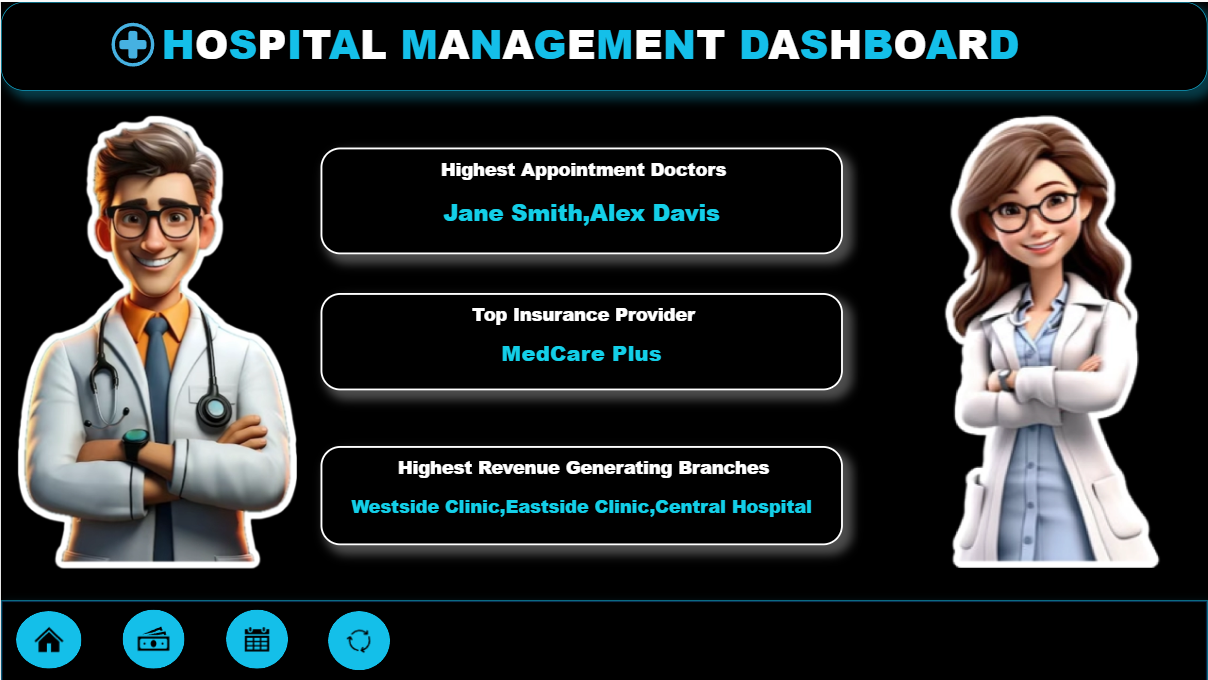

This screenshot's page, from the dashboard's own definition file:
{"tool":"powerbi","page":{"name":"Overview-Dashboard","canvas":[1280,720],"ordinal":0},"visuals":[{"type":"textbox","box":[0,0,1279.1,93.8],"z":0},{"type":"actionButton","box":[16.2,645.9,69.6,61.1],"z":0,"group":"g1"},{"type":"image","box":[16.2,0,299.7,721],"z":1000},{"type":"actionButton","box":[129.1,644.1,65.8,62.9],"z":1000,"group":"g1"},{"type":"shape","box":[0,633.9,1280,87.1],"z":2000},{"type":"actionButton","box":[238.2,644.1,65.8,62.9],"z":2000,"group":"g1"},{"type":"card","title":"Highest Appointment Doctors","fields":{"Values":["DAX Measures.Top Doctor Appointments"]},"box":[338.8,154.2,553.8,113.6],"z":3000},{"type":"actionButton","box":[347.3,645.9,65.8,62.9],"z":3000,"group":"g1"},{"type":"card","title":"Top Insurance Provider","fields":{"Values":["DAX Measures.Highest insurance provider"]},"box":[338.8,308.3,553.8,103.5],"z":4000},{"type":"card","title":"Highest Revenue Generating Branches","fields":{"Values":["DAX Measures.Top Revenue Branch"]},"box":[338.8,470.6,553.8,105.5],"z":5000},{"type":"group","id":"g1","title":"Group 1","box":[16.2,644.1,397,62.8],"z":6000},{"type":"image","box":[965.5,0,299,720.5],"z":7000},{"type":"image","box":[85.9,15.9,108.2,58.9],"z":8000}]}

Visuals, with their boxes in screenshot pixels (x1, y1, x2, y2), scaled from the page's 1280x720 canvas onto the 1208x680 screenshot:
textbox: [0,0,1207,89]
actionButton: [15,610,81,668]
image: [15,0,298,679]
actionButton: [122,608,184,668]
shape: [0,599,1207,679]
actionButton: [225,608,287,668]
"Highest Appointment Doctors" card: [320,146,842,253]
actionButton: [328,610,390,669]
"Top Insurance Provider" card: [320,291,842,389]
"Highest Revenue Generating Branches" card: [320,444,842,544]
"Group 1" group: [15,608,390,668]
image: [911,0,1193,679]
image: [81,15,183,71]
